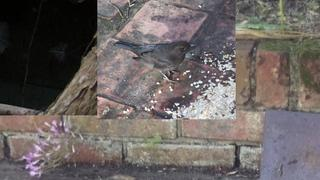blackbird: (113, 40, 196, 85)
